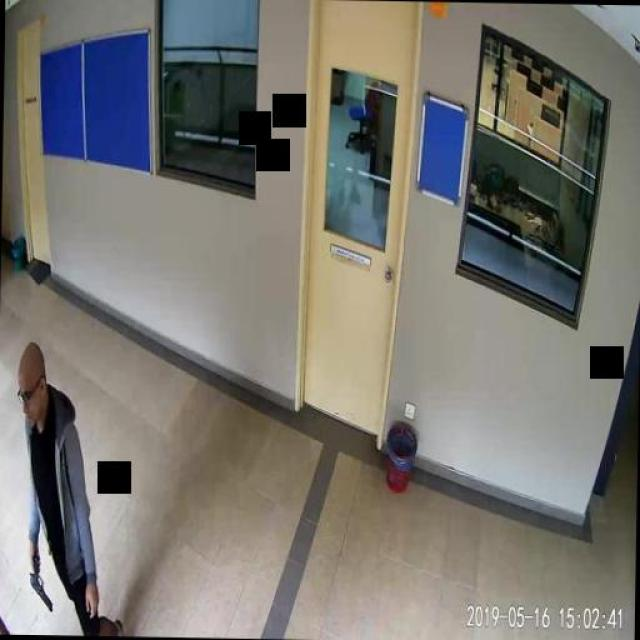gun: (28, 554, 52, 608)
